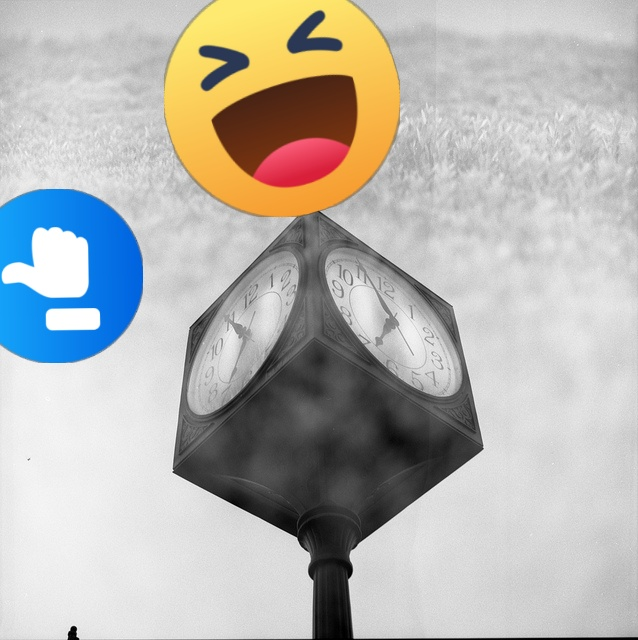haha: (164, 0, 400, 217)
like: (0, 189, 143, 363)
